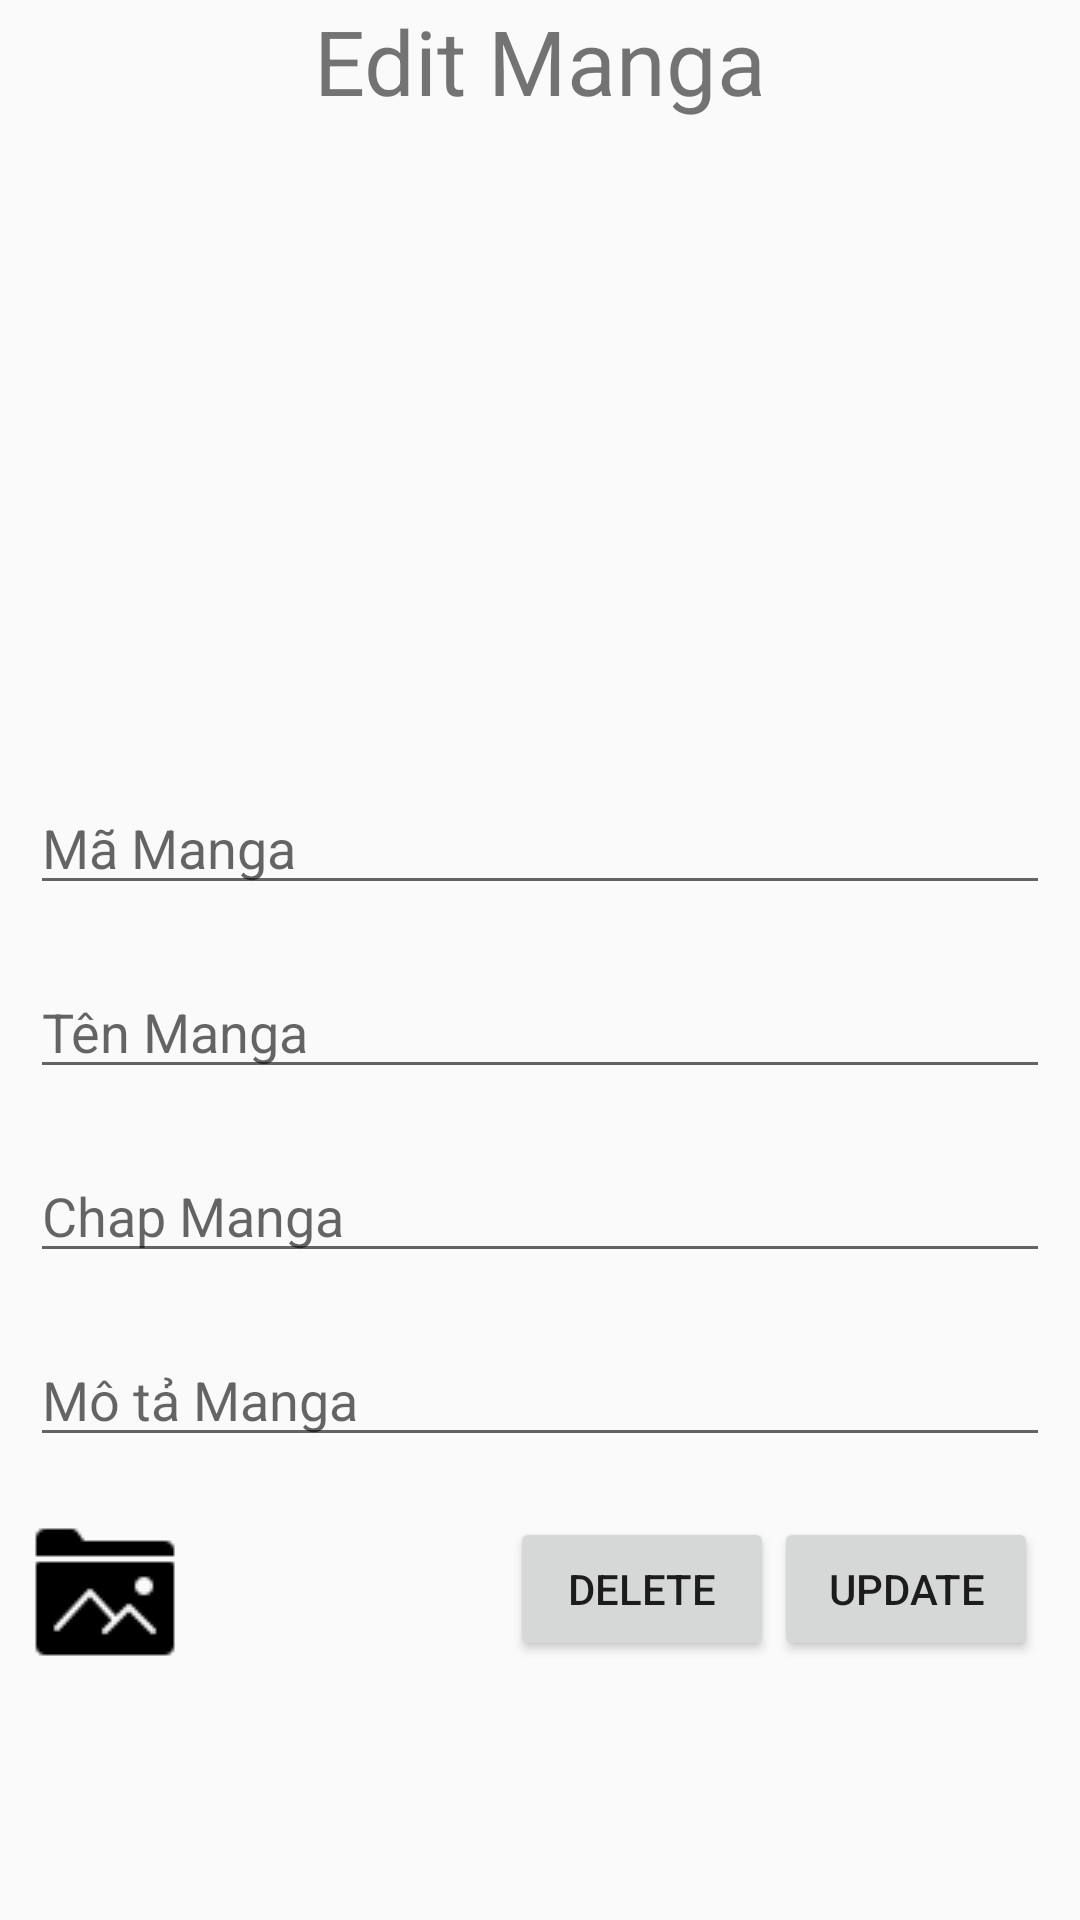

Where icons sit on this 1080w x 1920h app screen, as (x1, y1, x2, y2):
folder: (35, 1528, 175, 1656)
